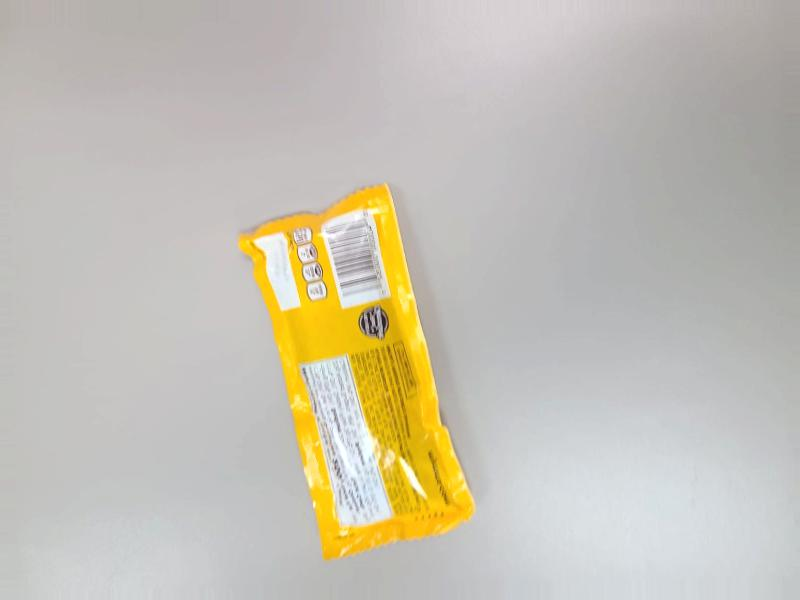m&m: (243, 192, 468, 529)
